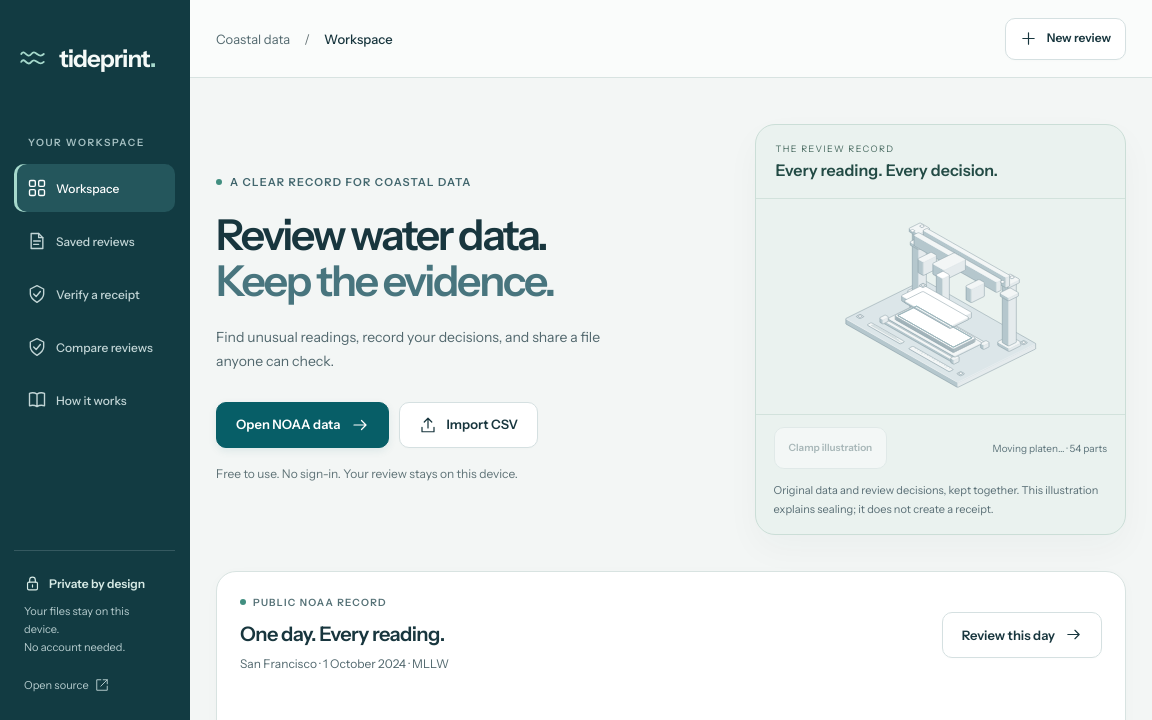
Test: upstream failure is visible and leaves the import form usable
This screenshot has width=1152, height=720.
Click the button "Open NOAA data": (302,424) [216,402,388,448]
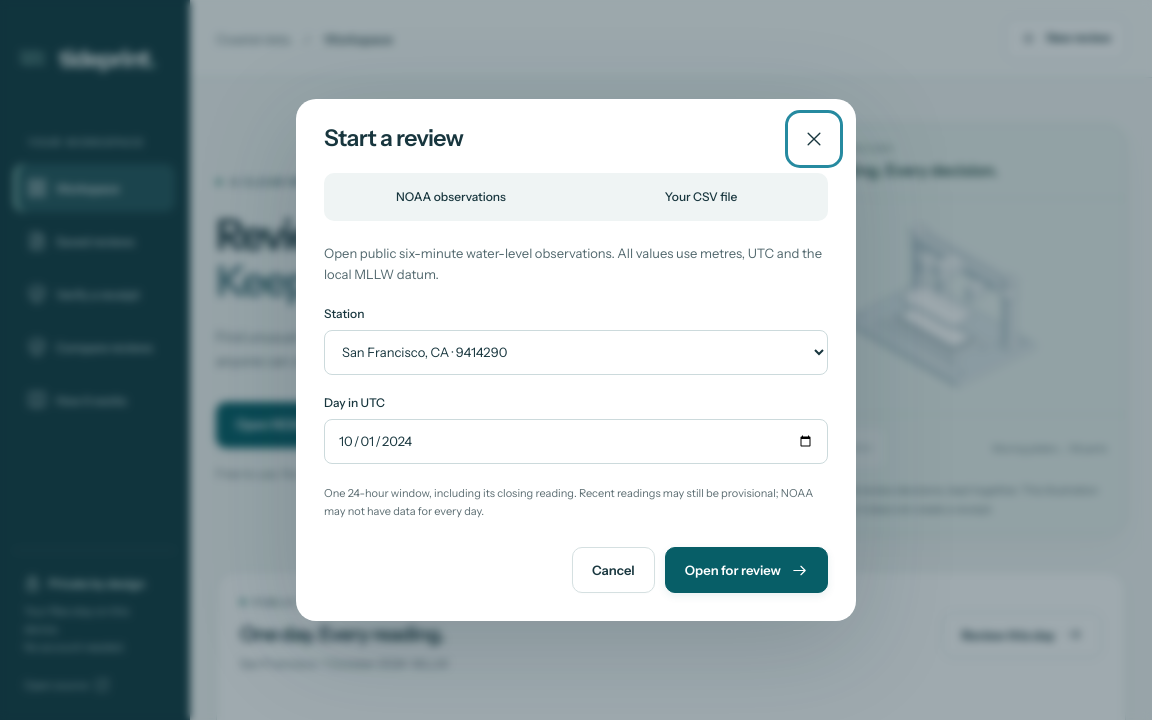
Click the button "Open for review": (746,570) [665,547,828,593]
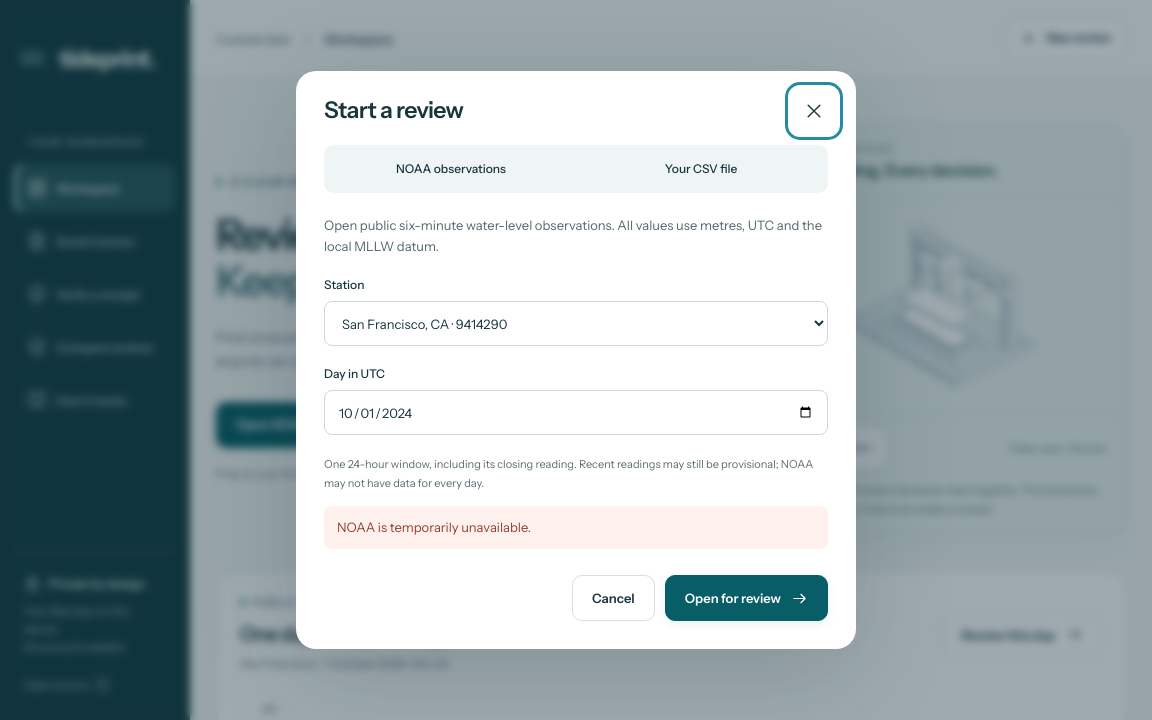
Check: the dialog is shown, box [296,71,856,649]
Check: the text "NOAA is temporarily unavailable." is shown, box [324,506,828,549]
